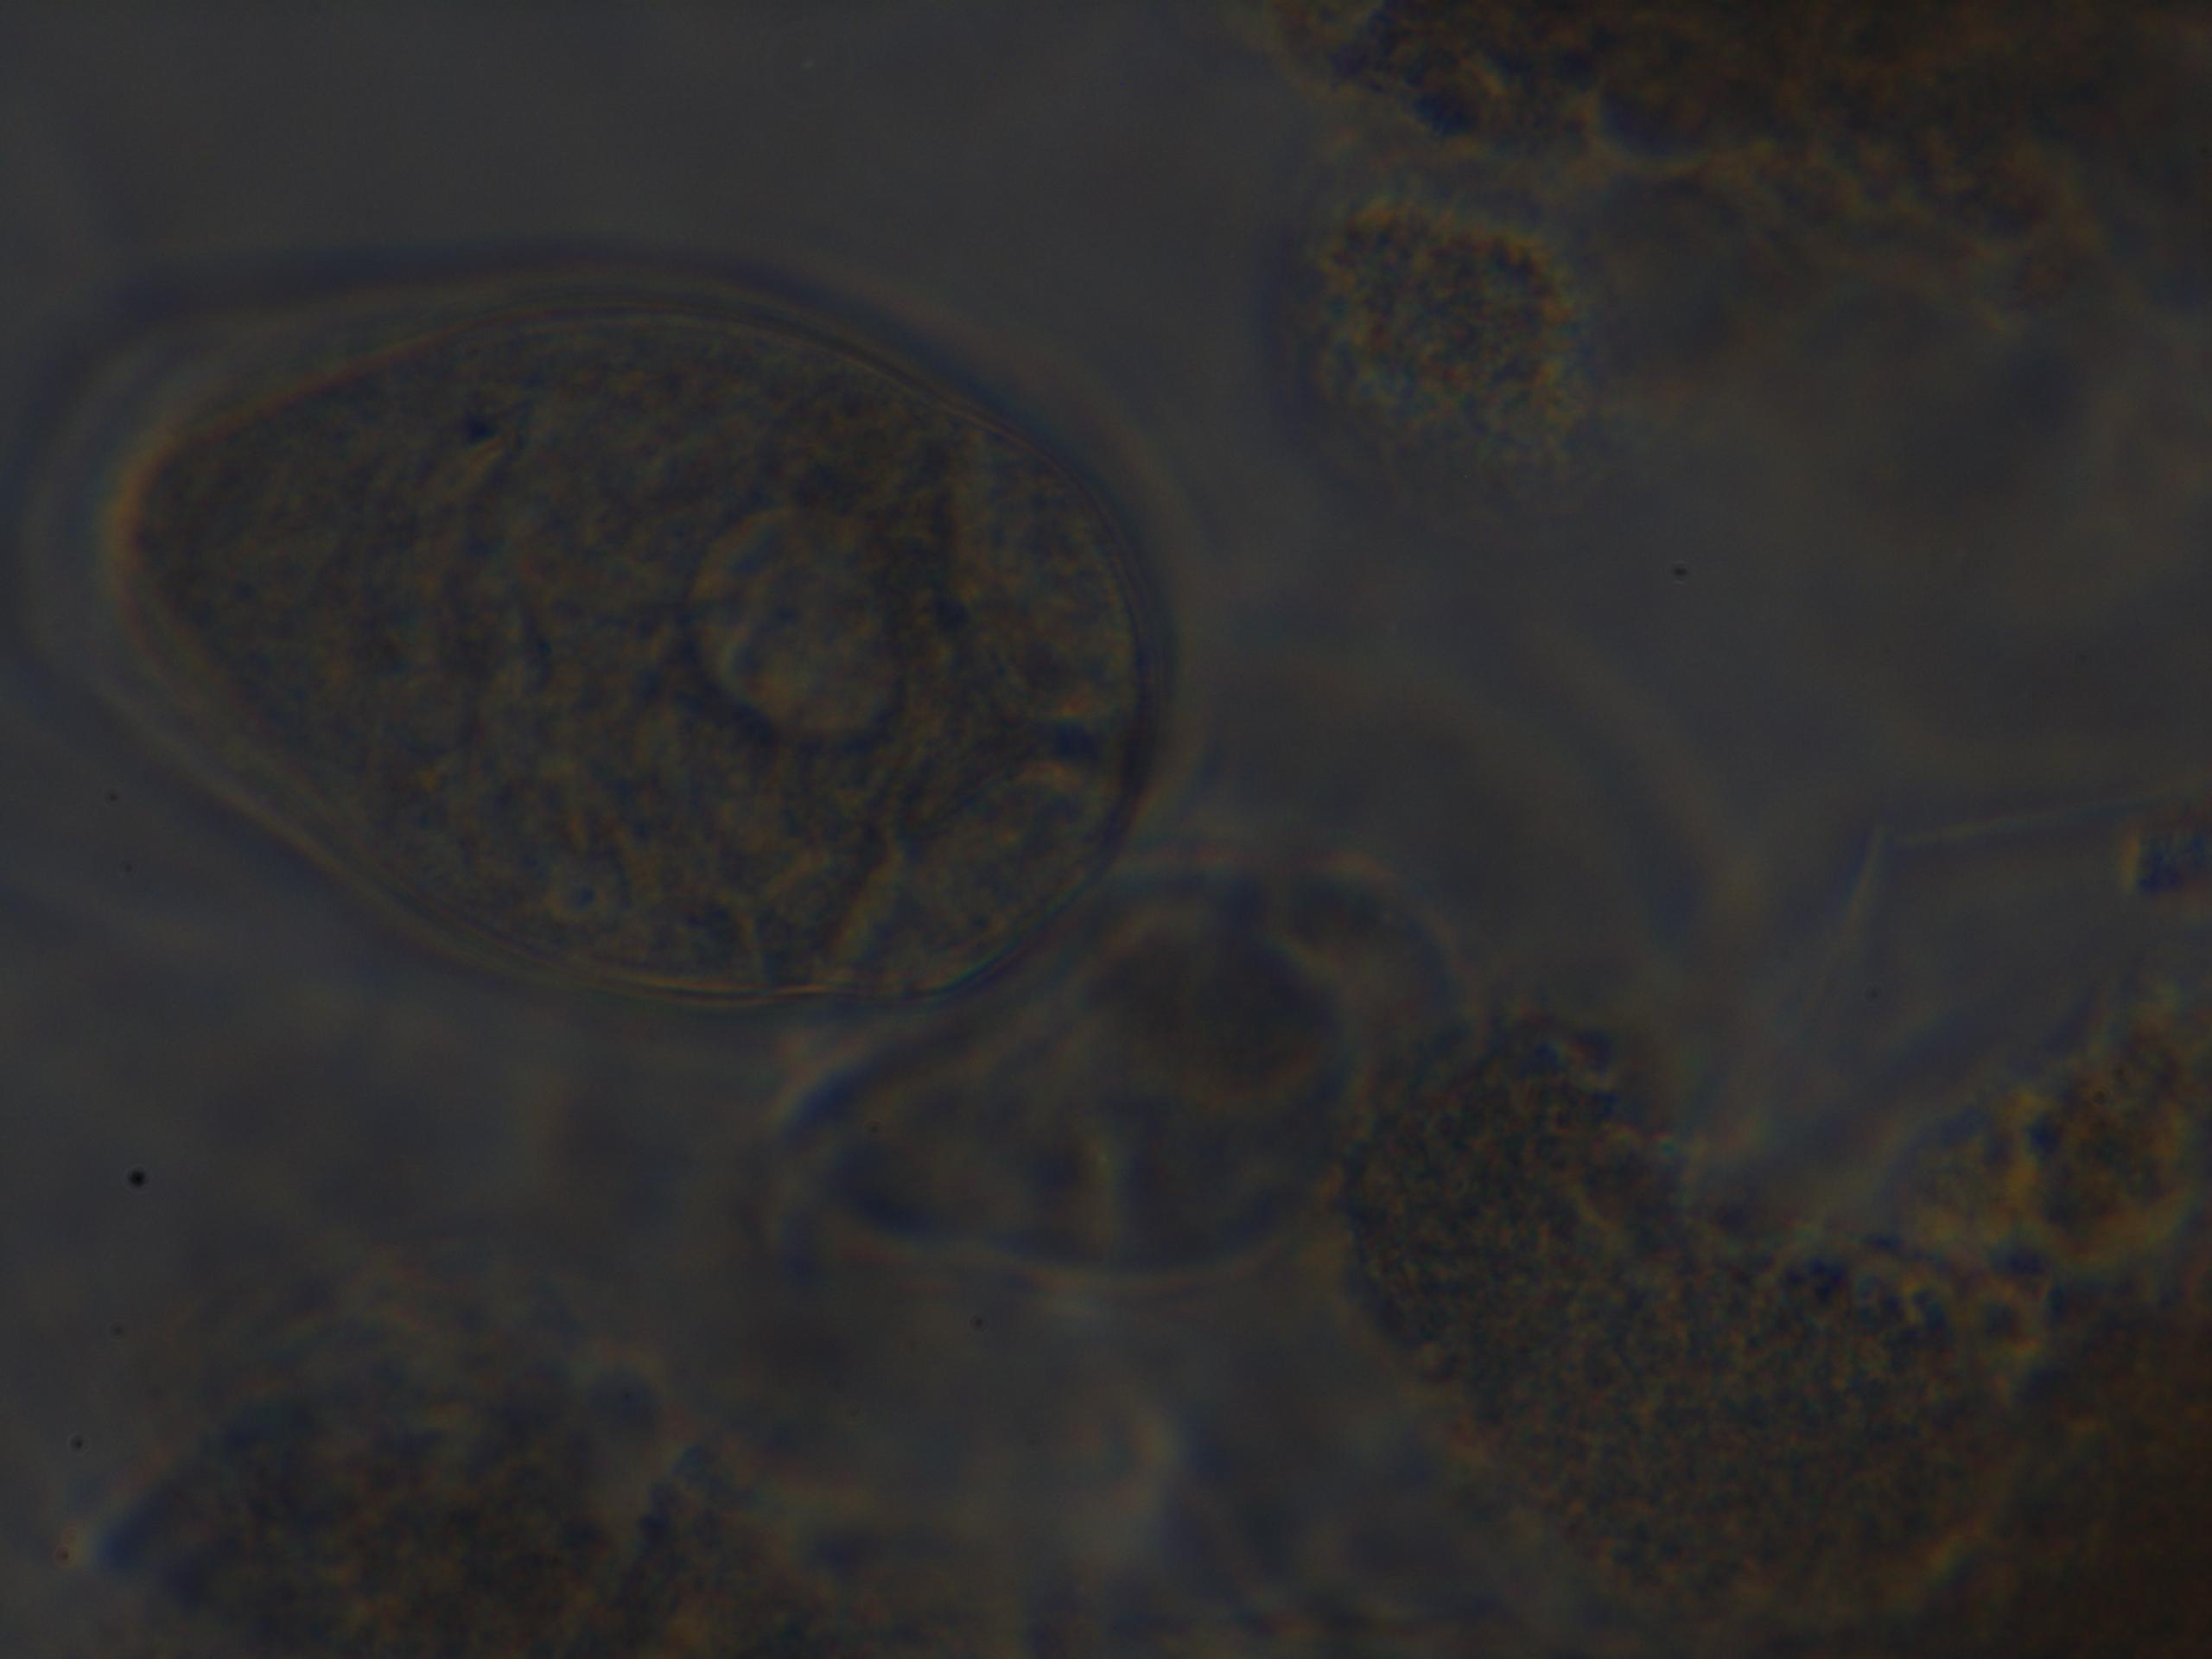protozoa: (0, 225, 1242, 1042)
